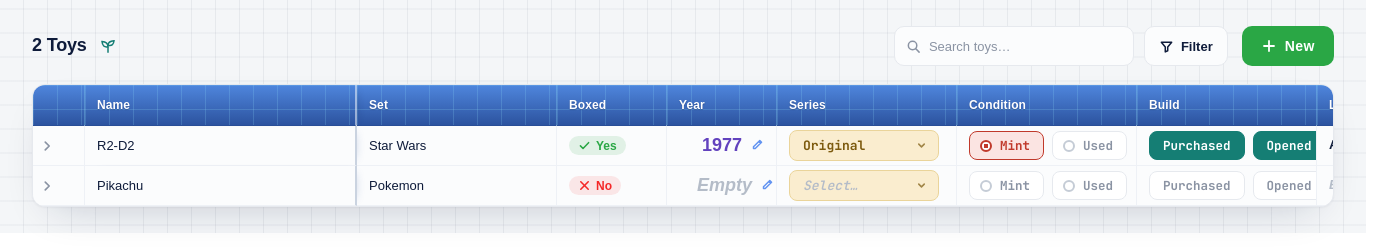
ToysManager › shows the mass-edit hint when mass edit and beginner mode are on
The width and height of the screenshot is (1378, 250).
Expected: the button "R2-D2" is shown, top-left (91, 135), bottom-right (349, 156)
Click the button named "Beginner hint" at (108, 46), box top-left (95, 33), bottom-right (121, 59)
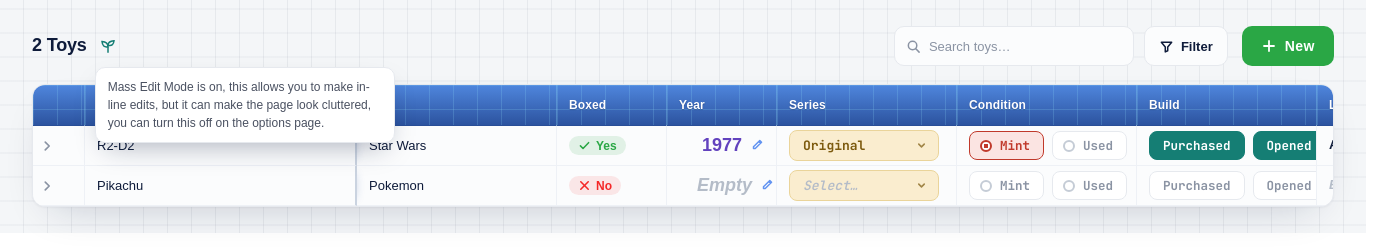
Now the tooltip "Mass Edit Mode is on, this allows you to make in-line edits" is shown, box top-left (108, 80), bottom-right (371, 130)
